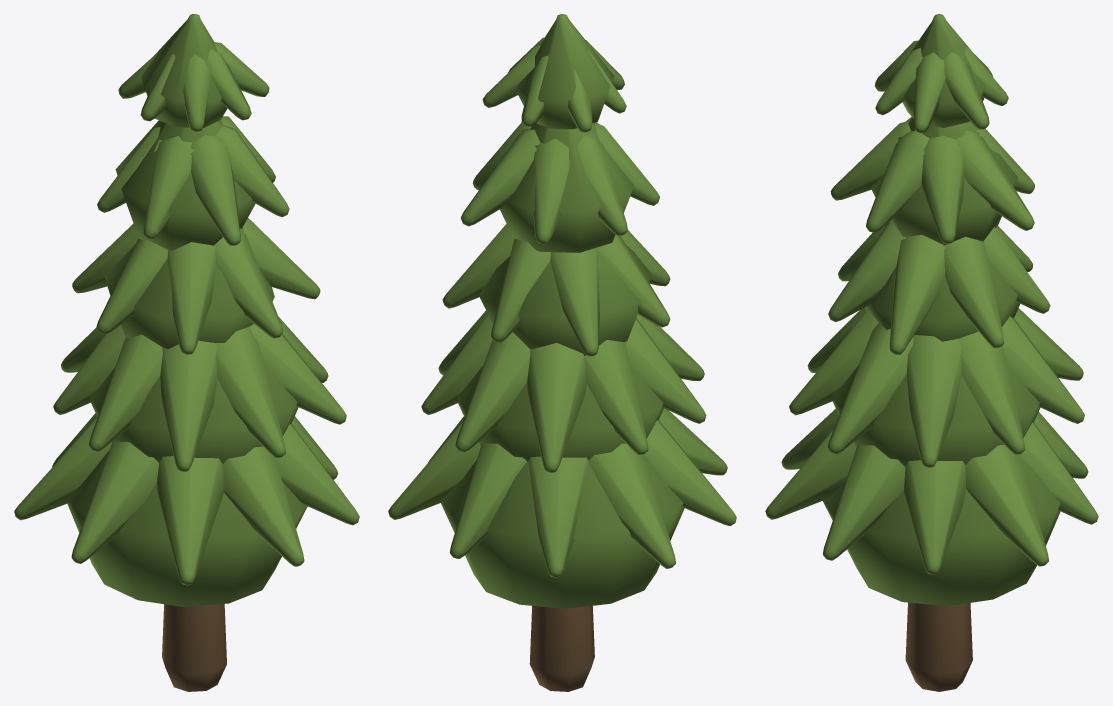
The model's file is prop_pine2_9683.glb.
The picture shows the model from 3 angles, left to right: view 1: azimuth 30°, elevation 25°; view 2: azimuth 150°, elevation 25°; view 3: azimuth 270°, elevation 25°; orthographic projection.
Parts seen in each view (by area): view 1: prop_pine2_9683; view 2: prop_pine2_9683; view 3: prop_pine2_9683.
Part boxes in pixels (bbox=[...]): prop_pine2_9683: bbox=[14, 14, 359, 691]; prop_pine2_9683: bbox=[388, 14, 736, 691]; prop_pine2_9683: bbox=[765, 14, 1098, 691].
Bounding box in the file's own units: 1.22 × 2.74 × 1.22.
1 material, 1 textured.
